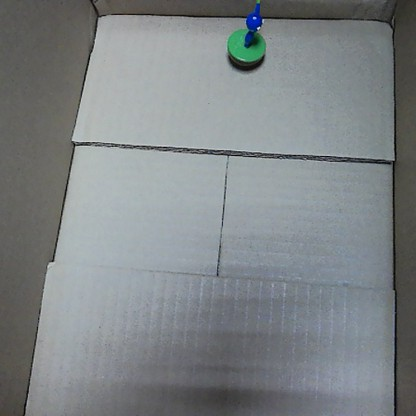leafairy: (223, 0, 270, 72)
